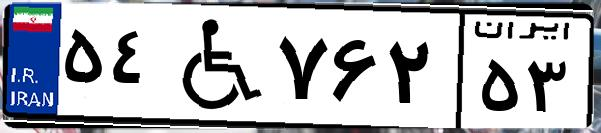2: (385, 28, 445, 110)
3: (525, 38, 570, 115)
4: (110, 28, 158, 98)
5: (57, 26, 110, 100), (475, 38, 525, 113)
6: (330, 28, 385, 110)
7: (270, 28, 330, 110)
ژ (معلولین و جانبازان): (158, 12, 270, 120)
